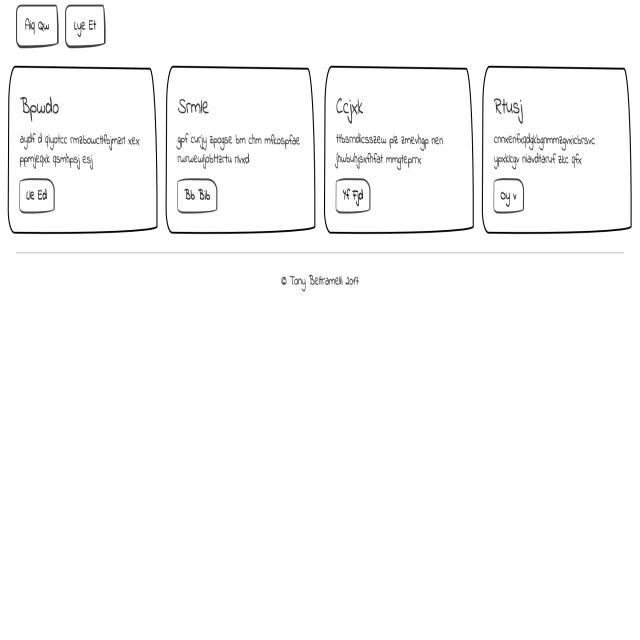Button: (332, 175, 377, 218), (176, 176, 220, 219), (489, 177, 528, 218), (16, 176, 56, 215)
Card: (5, 63, 160, 241), (165, 63, 318, 242), (481, 64, 634, 241), (323, 65, 477, 239)
Footer: (2, 248, 640, 640)
Heading 6: (20, 90, 64, 126), (494, 90, 532, 126), (176, 93, 212, 125), (333, 94, 367, 127)
Navigation Bar: (7, 1, 121, 58)
Paragraph: (15, 130, 146, 175), (492, 125, 600, 174), (175, 131, 307, 170), (332, 128, 447, 172)
